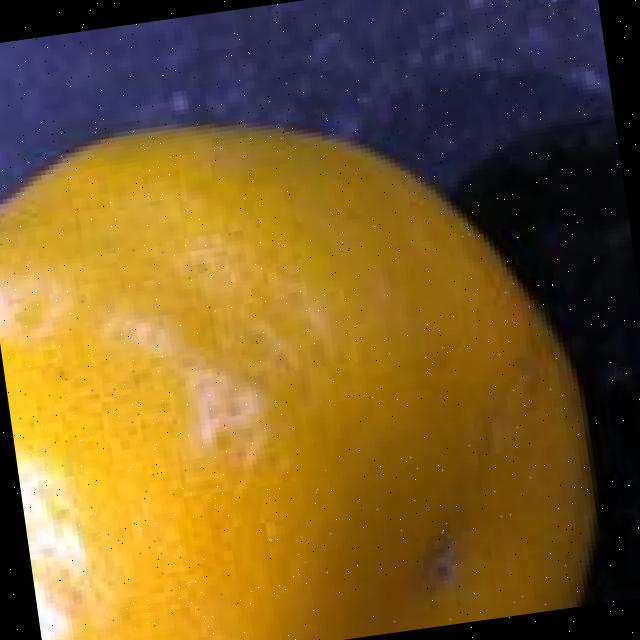Bad_Orange-0-1 day: (0, 123, 603, 640)
